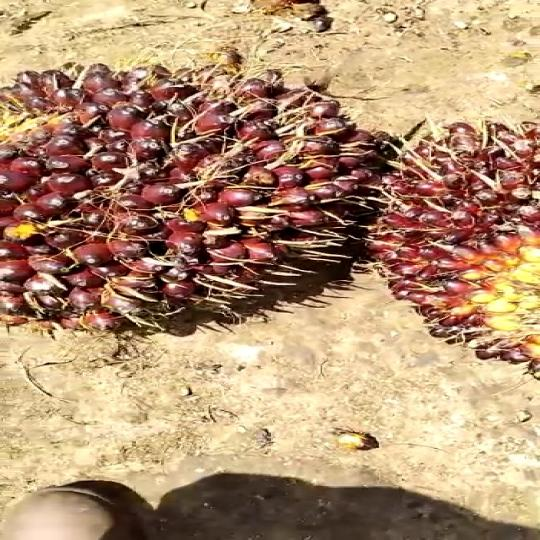kurang masak: (0, 56, 383, 334), (360, 100, 540, 409)
